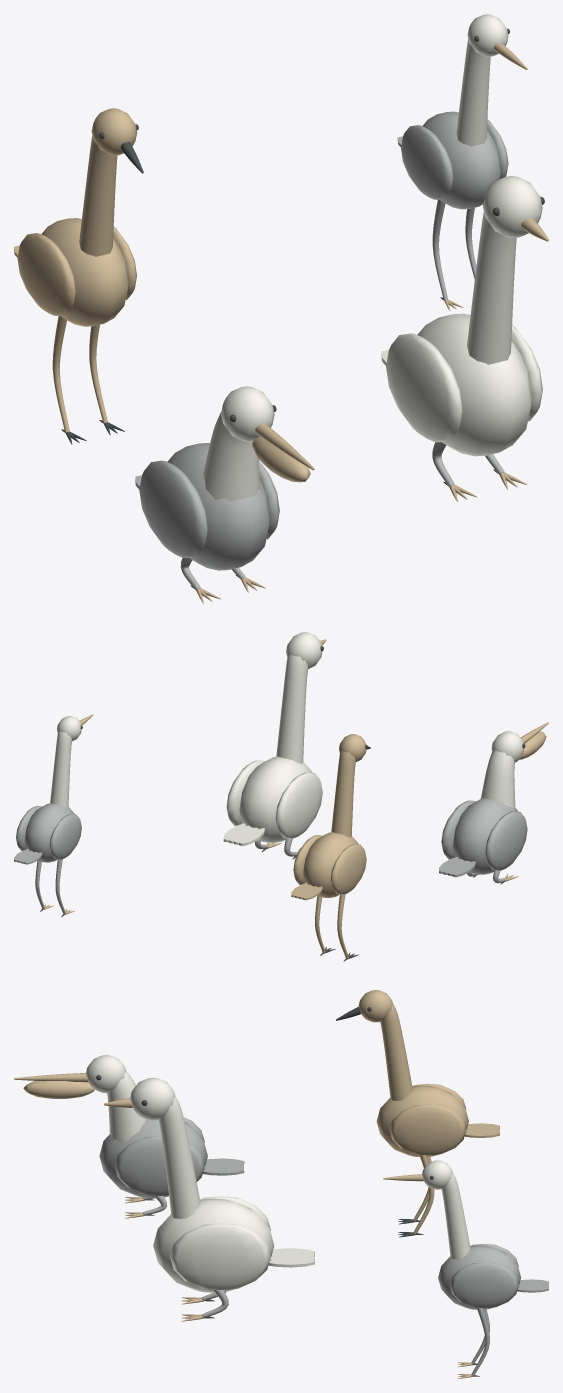
Rendered from birds-and-flying-creatures-wetland-shore-58165ed6-starter-scene__20668.glb.
3 views of the same model, one above another, from view 1: azimuth 30°, elevation 25°; view 2: azimuth 150°, elevation 25°; view 3: azimuth 270°, elevation 25° (orthographic). The views are drawn at different scales.
Visible parts, largest first — view 1: 002-mute-swan/0, 000-greater-flamingo/0, 003-brown-pelican/0, 001-grey-heron/0, 003-brown-pelican/1, 001-grey-heron/1, 003-brown-pelican/4, 003-brown-pelican/3, 002-mute-swan/2; view 2: 002-mute-swan/0, 000-greater-flamingo/0, 003-brown-pelican/0, 001-grey-heron/0, 003-brown-pelican/1, 001-grey-heron/1; view 3: 002-mute-swan/0, 000-greater-flamingo/0, 003-brown-pelican/0, 001-grey-heron/0, 003-brown-pelican/1, 001-grey-heron/1, 003-brown-pelican/4, 003-brown-pelican/3.
Part boxes in pixels (bbox=[...]): 002-mute-swan/0: bbox=[381, 176, 542, 456]; 000-greater-flamingo/0: bbox=[14, 108, 137, 432]; 003-brown-pelican/0: bbox=[135, 443, 279, 589]; 001-grey-heron/0: bbox=[397, 111, 508, 300]; 003-brown-pelican/1: bbox=[203, 386, 274, 501]; 001-grey-heron/1: bbox=[456, 14, 508, 146]; 003-brown-pelican/4: bbox=[252, 436, 310, 482]; 003-brown-pelican/3: bbox=[196, 423, 314, 603]; 002-mute-swan/2: bbox=[449, 218, 548, 501]; 002-mute-swan/0: bbox=[223, 632, 322, 846]; 000-greater-flamingo/0: bbox=[291, 734, 366, 958]; 003-brown-pelican/0: bbox=[439, 798, 527, 883]; 001-grey-heron/0: bbox=[14, 803, 81, 914]; 003-brown-pelican/1: bbox=[480, 731, 524, 809]; 001-grey-heron/1: bbox=[50, 716, 81, 807]; 002-mute-swan/0: bbox=[130, 1077, 314, 1292]; 000-greater-flamingo/0: bbox=[358, 990, 499, 1234]; 003-brown-pelican/0: bbox=[99, 1117, 244, 1215]; 001-grey-heron/0: bbox=[438, 1243, 548, 1376]; 003-brown-pelican/1: bbox=[86, 1055, 146, 1142]; 001-grey-heron/1: bbox=[422, 1160, 470, 1259]; 003-brown-pelican/4: bbox=[23, 1081, 94, 1098]; 003-brown-pelican/3: bbox=[14, 1073, 144, 1218].
Size of the model in its own units: 2.83 by 1.63 by 3.33.
